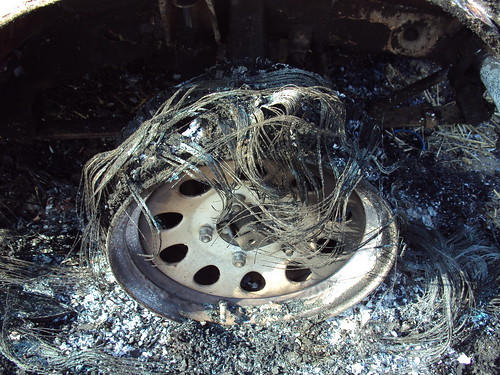trash: (9, 16, 500, 375)
